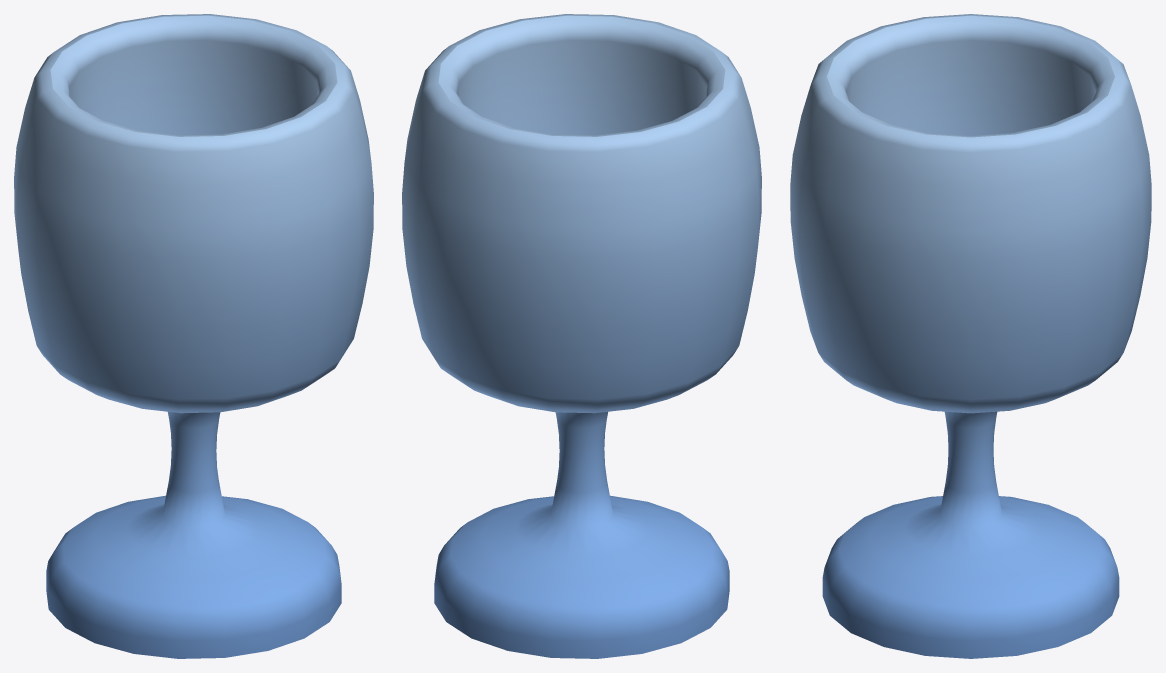
The model's file is glass.fbx.
3 views of the same model, side by side, from view 1: azimuth 30°, elevation 25°; view 2: azimuth 150°, elevation 25°; view 3: azimuth 270°, elevation 25° (orthographic).
Parts seen in each view (by area): view 1: polySurface11; view 2: polySurface11; view 3: polySurface11.
Part boxes in pixels (<box>): polySurface11: <box>14,14,373,658</box>; polySurface11: <box>402,14,761,658</box>; polySurface11: <box>790,14,1151,658</box>.
Bounding box in the file's own units: 6.64 × 10.54 × 6.64.
